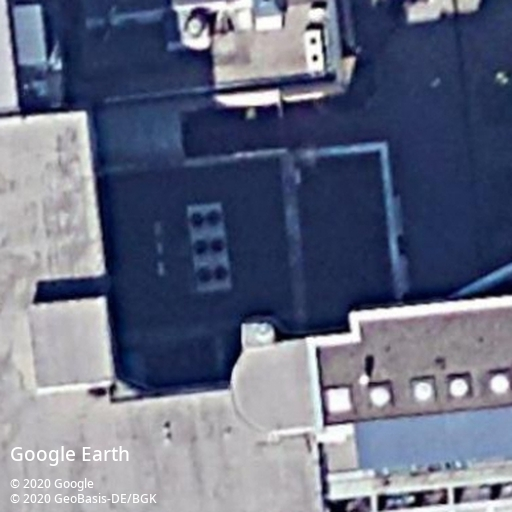Chiller: (183, 199, 236, 296), (303, 28, 326, 74)
